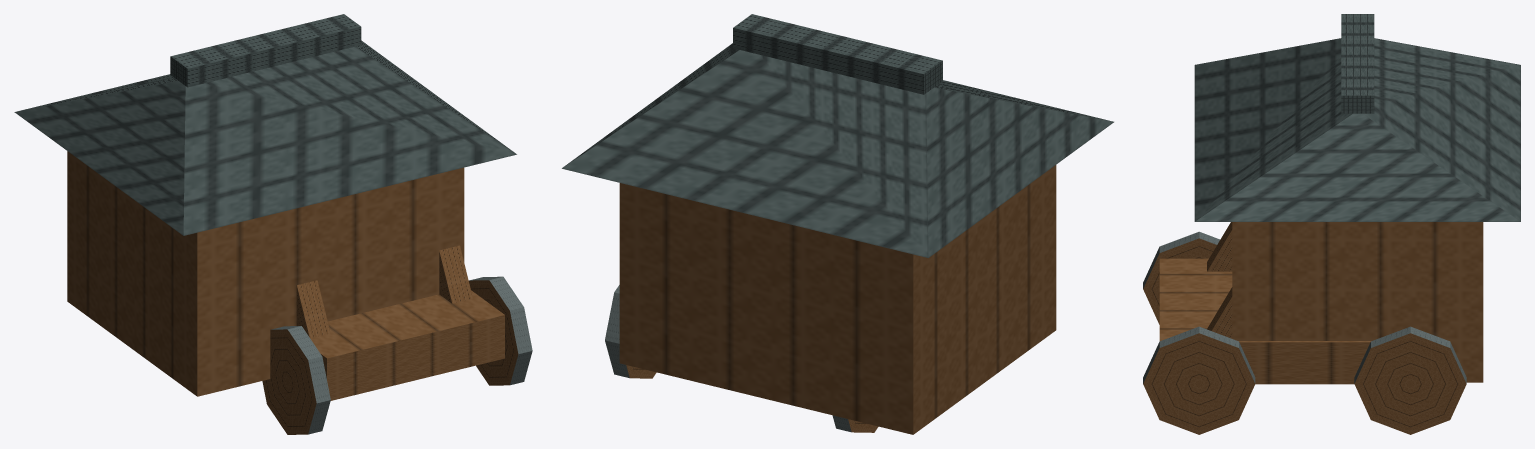
The model's file is domestic-WORKSHOP-1-lod1.glb.
3 renders of one model, left to right at view 1: azimuth 30°, elevation 25°; view 2: azimuth 150°, elevation 25°; view 3: azimuth 270°, elevation 25°, orthographic. The views are drawn at different scales.
Bounding box in the file's own units: 0.5625 × 0.513 × 0.572.
Materials: 1 (1 with a texture image).
